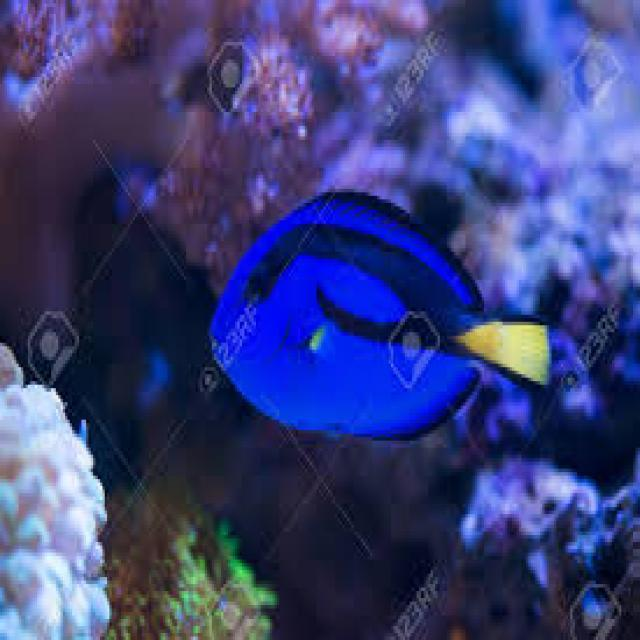TangFish: (210, 182, 551, 443)
